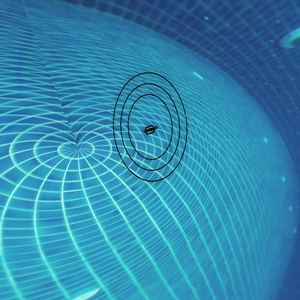circle: (104, 58, 194, 187)
submarine: (144, 125, 155, 133)
